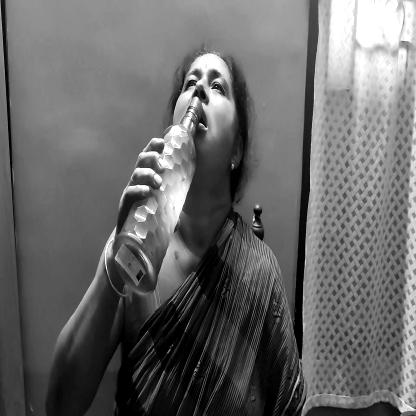Distracted: (178, 55, 241, 172)
